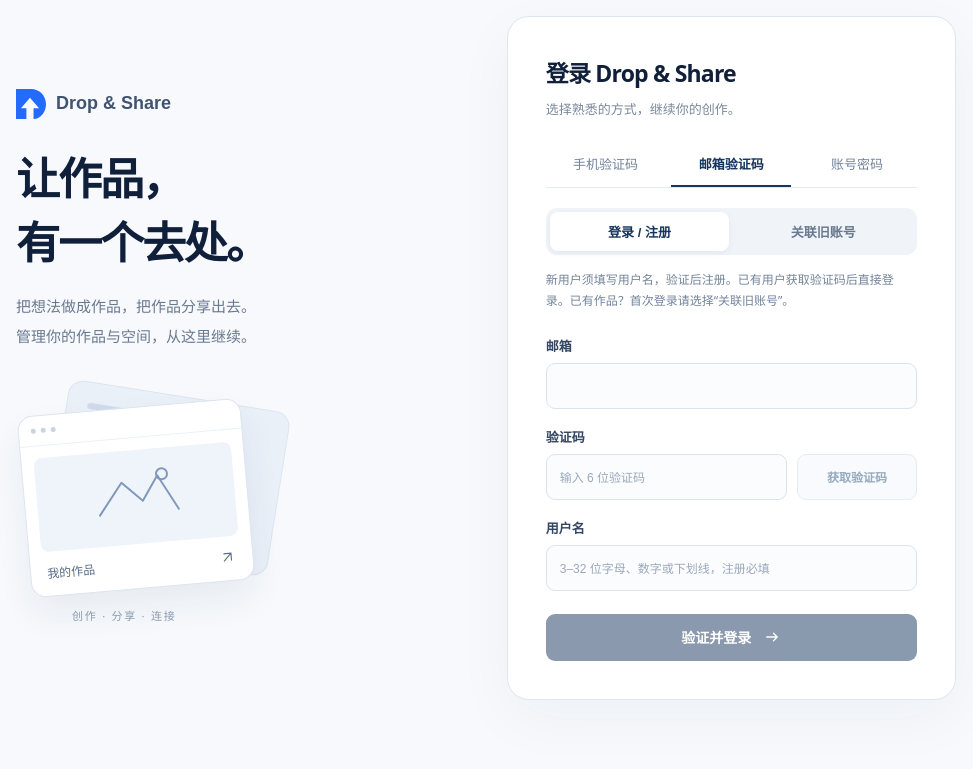
email authentication › explains that old accounts must be linked to retain their content
Click the button "关联旧账号" at (823, 231), box [733, 212, 913, 251]
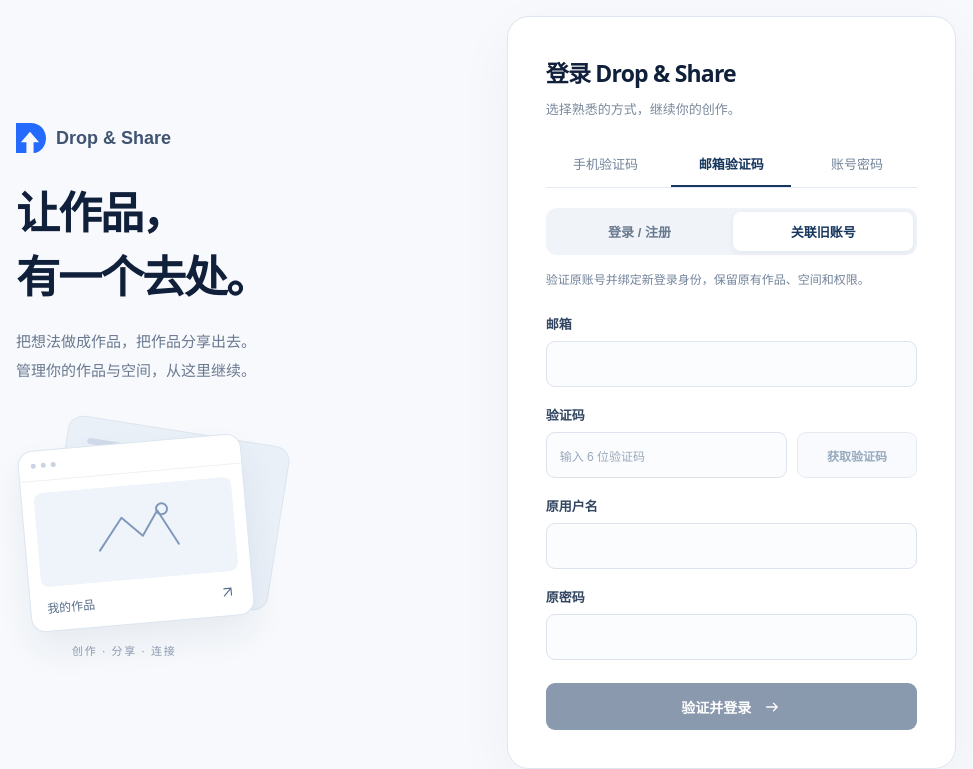
Expected: the field labelled "原用户名" is shown, [546, 523, 917, 569]
Expected: the text "验证原账号并绑定新登录身份，保留原有作品、空间和权限。" is shown, [546, 269, 917, 290]
